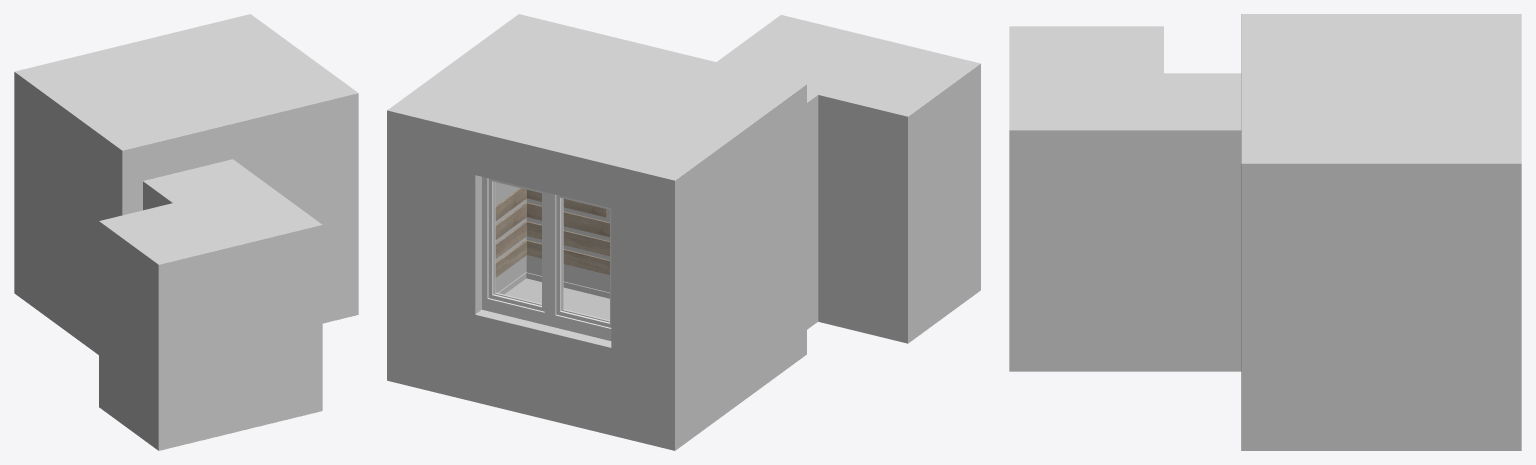
File: Odlegla.glb
3 views of the same model, side by side, from view 1: azimuth 30°, elevation 25°; view 2: azimuth 150°, elevation 25°; view 3: azimuth 270°, elevation 25° (orthographic). The views are drawn at different scales.
Parts seen in each view (by area): view 1: Tobiasz; view 2: Tobiasz, Window, Lamele, Tobiasz.001; view 3: Tobiasz.
Boxes of the visible parts, <box> form: Tobiasz: <box>14,14,358,450</box>; Tobiasz: <box>387,14,980,450</box>; Window: <box>482,177,611,340</box>; Lamele: <box>495,188,609,277</box>; Tobiasz.001: <box>498,272,609,298</box>; Tobiasz: <box>1009,14,1521,450</box>.
Size of the model in its own units: 3.92 by 2.87 by 4.63.
13 materials, 1 textured.
